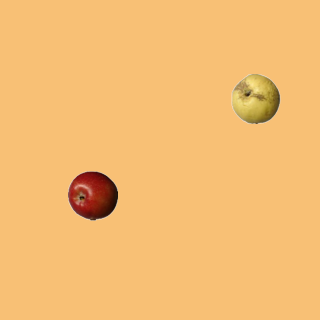Apple Braeburn: (67, 170, 117, 220)
Apple Golden 1: (230, 73, 280, 123)
